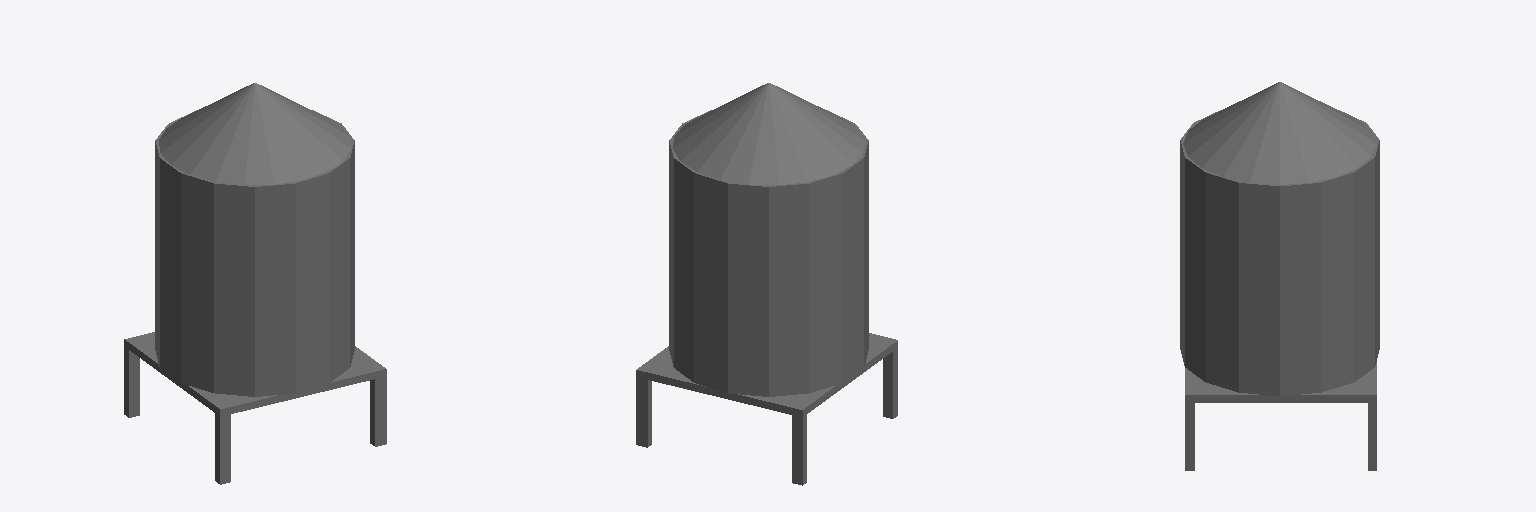
File: watertower.obj
The picture shows the model from 3 angles: view 1: azimuth 30°, elevation 25°; view 2: azimuth 150°, elevation 25°; view 3: azimuth 270°, elevation 25°; orthographic projection.
Visible parts, largest first — view 1: polySurface1753; view 2: polySurface1753; view 3: polySurface1753.
Part boxes in pixels (x1,y1,x2,y2): polySurface1753: (124, 83, 386, 484); polySurface1753: (636, 83, 897, 485); polySurface1753: (1180, 82, 1379, 470).
Size of the model in its own units: 0.5133 by 0.9941 by 0.5162.